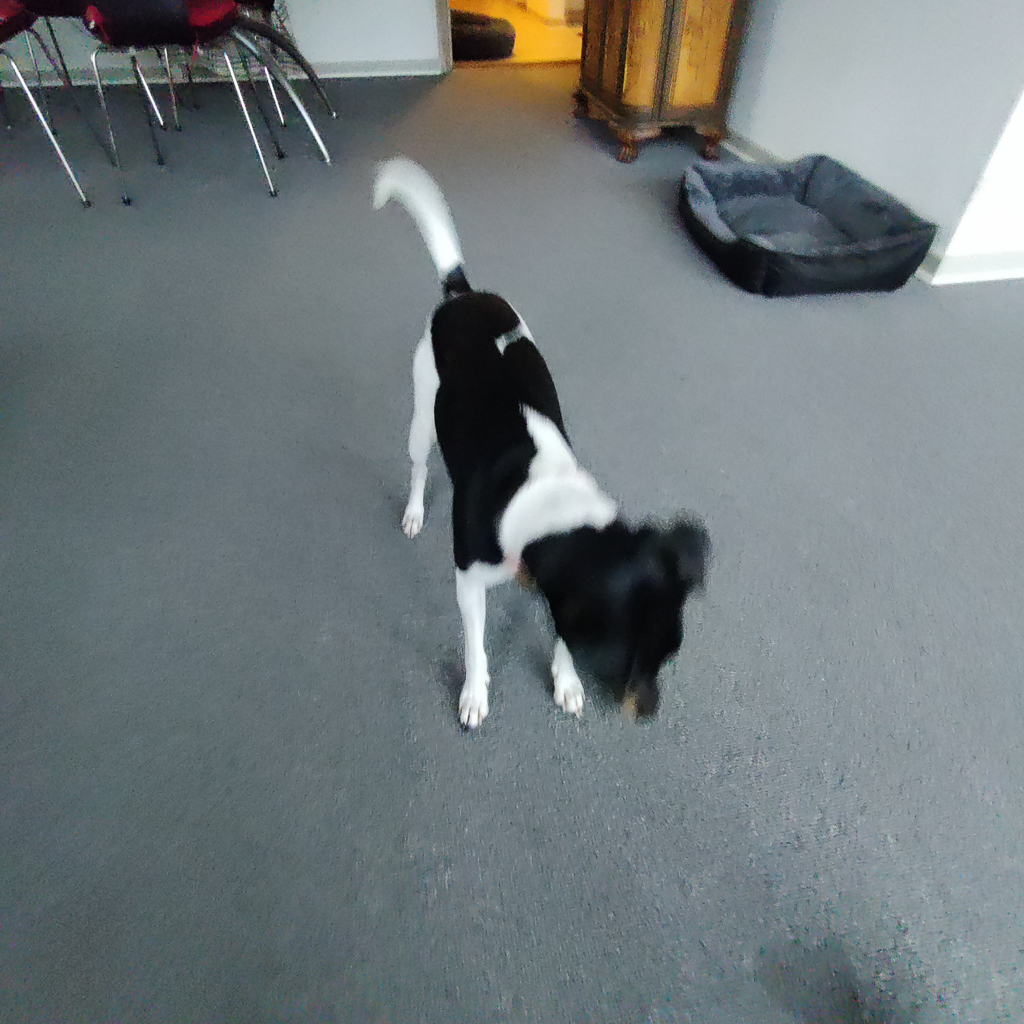Dog: (326, 135, 742, 777)
